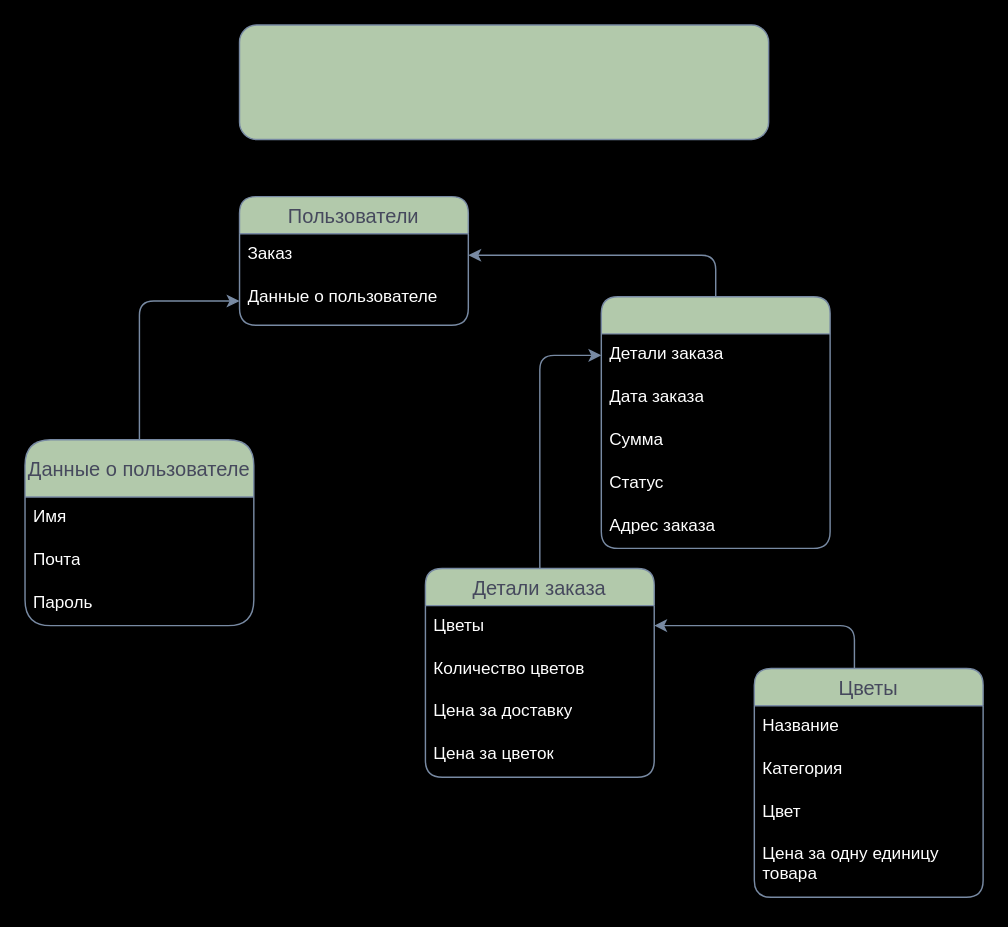
Image size: 1008x927. Some labels were removed from this diagram. The box of each missing label's shape, as (x1, y1, x2, y2) in pixels:
Заказы: (600, 295, 830, 548)
Цветочный Магазин flowersshop: (238, 24, 769, 139)
